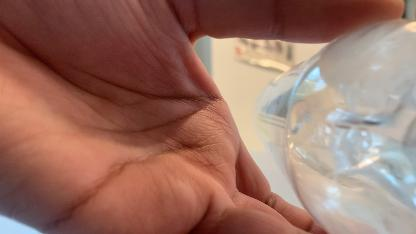Plastic Bottle: (248, 7, 416, 231)
